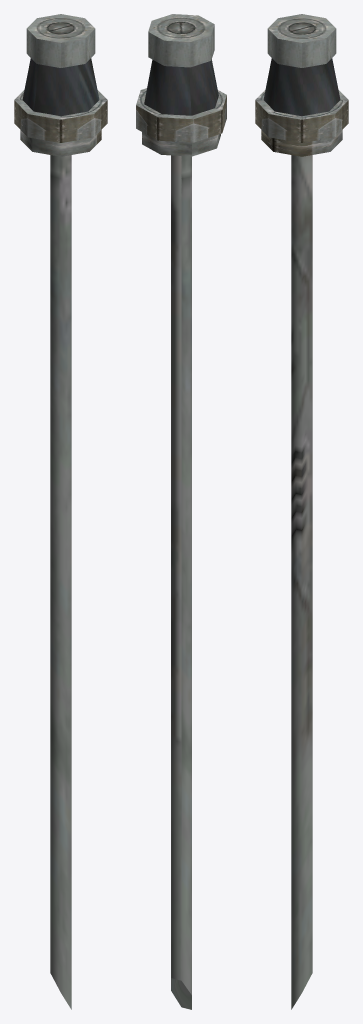
Rendered from frn_all_glow_torch_s1_l0.fbx.
3 views of the same model, side by side, from view 1: azimuth 90°, elevation 25°; view 2: azimuth 150°, elevation 25°; view 3: azimuth 270°, elevation 25° (orthographic).
Visible parts, largest first — view 1: mesh_node; view 2: mesh_node; view 3: mesh_node.
Boxes of the visible parts, x1,y1,x2,y2 form: mesh_node: [14, 14, 107, 1009]; mesh_node: [136, 14, 226, 1009]; mesh_node: [255, 14, 348, 1009].
Size of the model in its own units: 0.1325 by 1.53 by 0.1325.
Materials: 2 (2 with a texture image).
